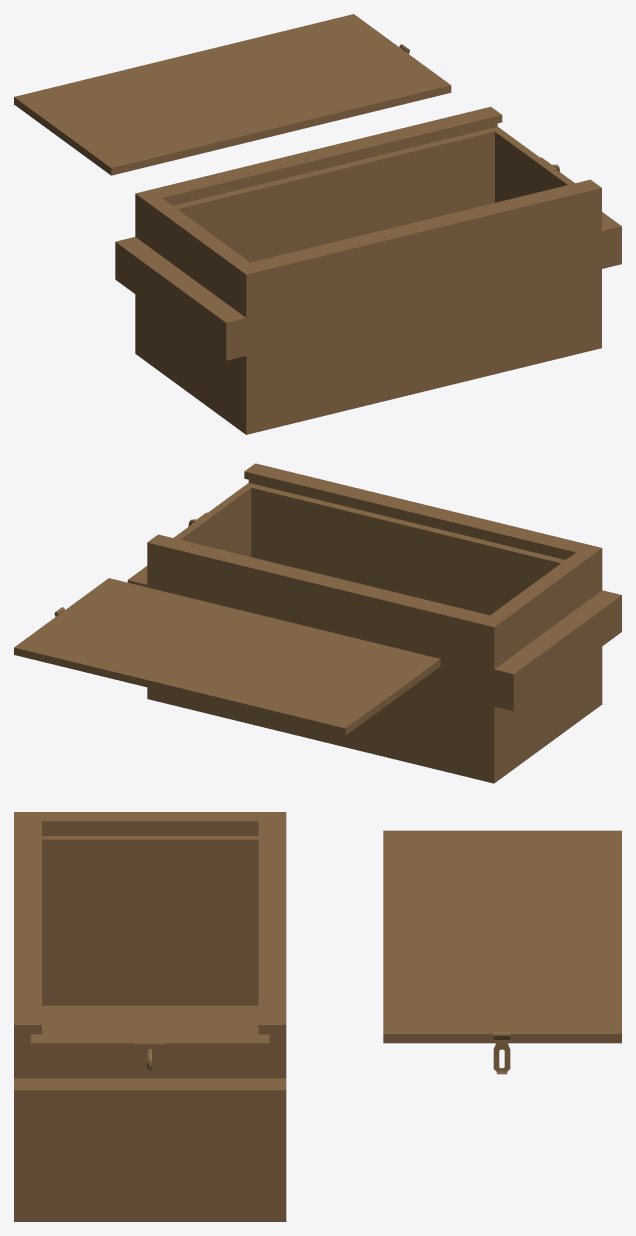
Rendered from wip_box.glb.
3 views of the same model, one above another, from view 1: azimuth 30°, elevation 25°; view 2: azimuth 150°, elevation 25°; view 3: azimuth 270°, elevation 25° (orthographic). The views are drawn at different scales.
Parts seen in each view (by area): view 1: product-4bac460b-5294-495d-825c-2c5b6fbb5115-body; view 2: product-4bac460b-5294-495d-825c-2c5b6fbb5115-body; view 3: product-4bac460b-5294-495d-825c-2c5b6fbb5115-body.
Part boxes in pixels (left/top/right/bottom): product-4bac460b-5294-495d-825c-2c5b6fbb5115-body: left=14, top=14, right=621, bottom=434; product-4bac460b-5294-495d-825c-2c5b6fbb5115-body: left=14, top=463, right=621, bottom=783; product-4bac460b-5294-495d-825c-2c5b6fbb5115-body: left=14, top=812, right=621, bottom=1221.
Bounding box in the file's own units: 0.3104 × 0.1201 × 0.3365.
